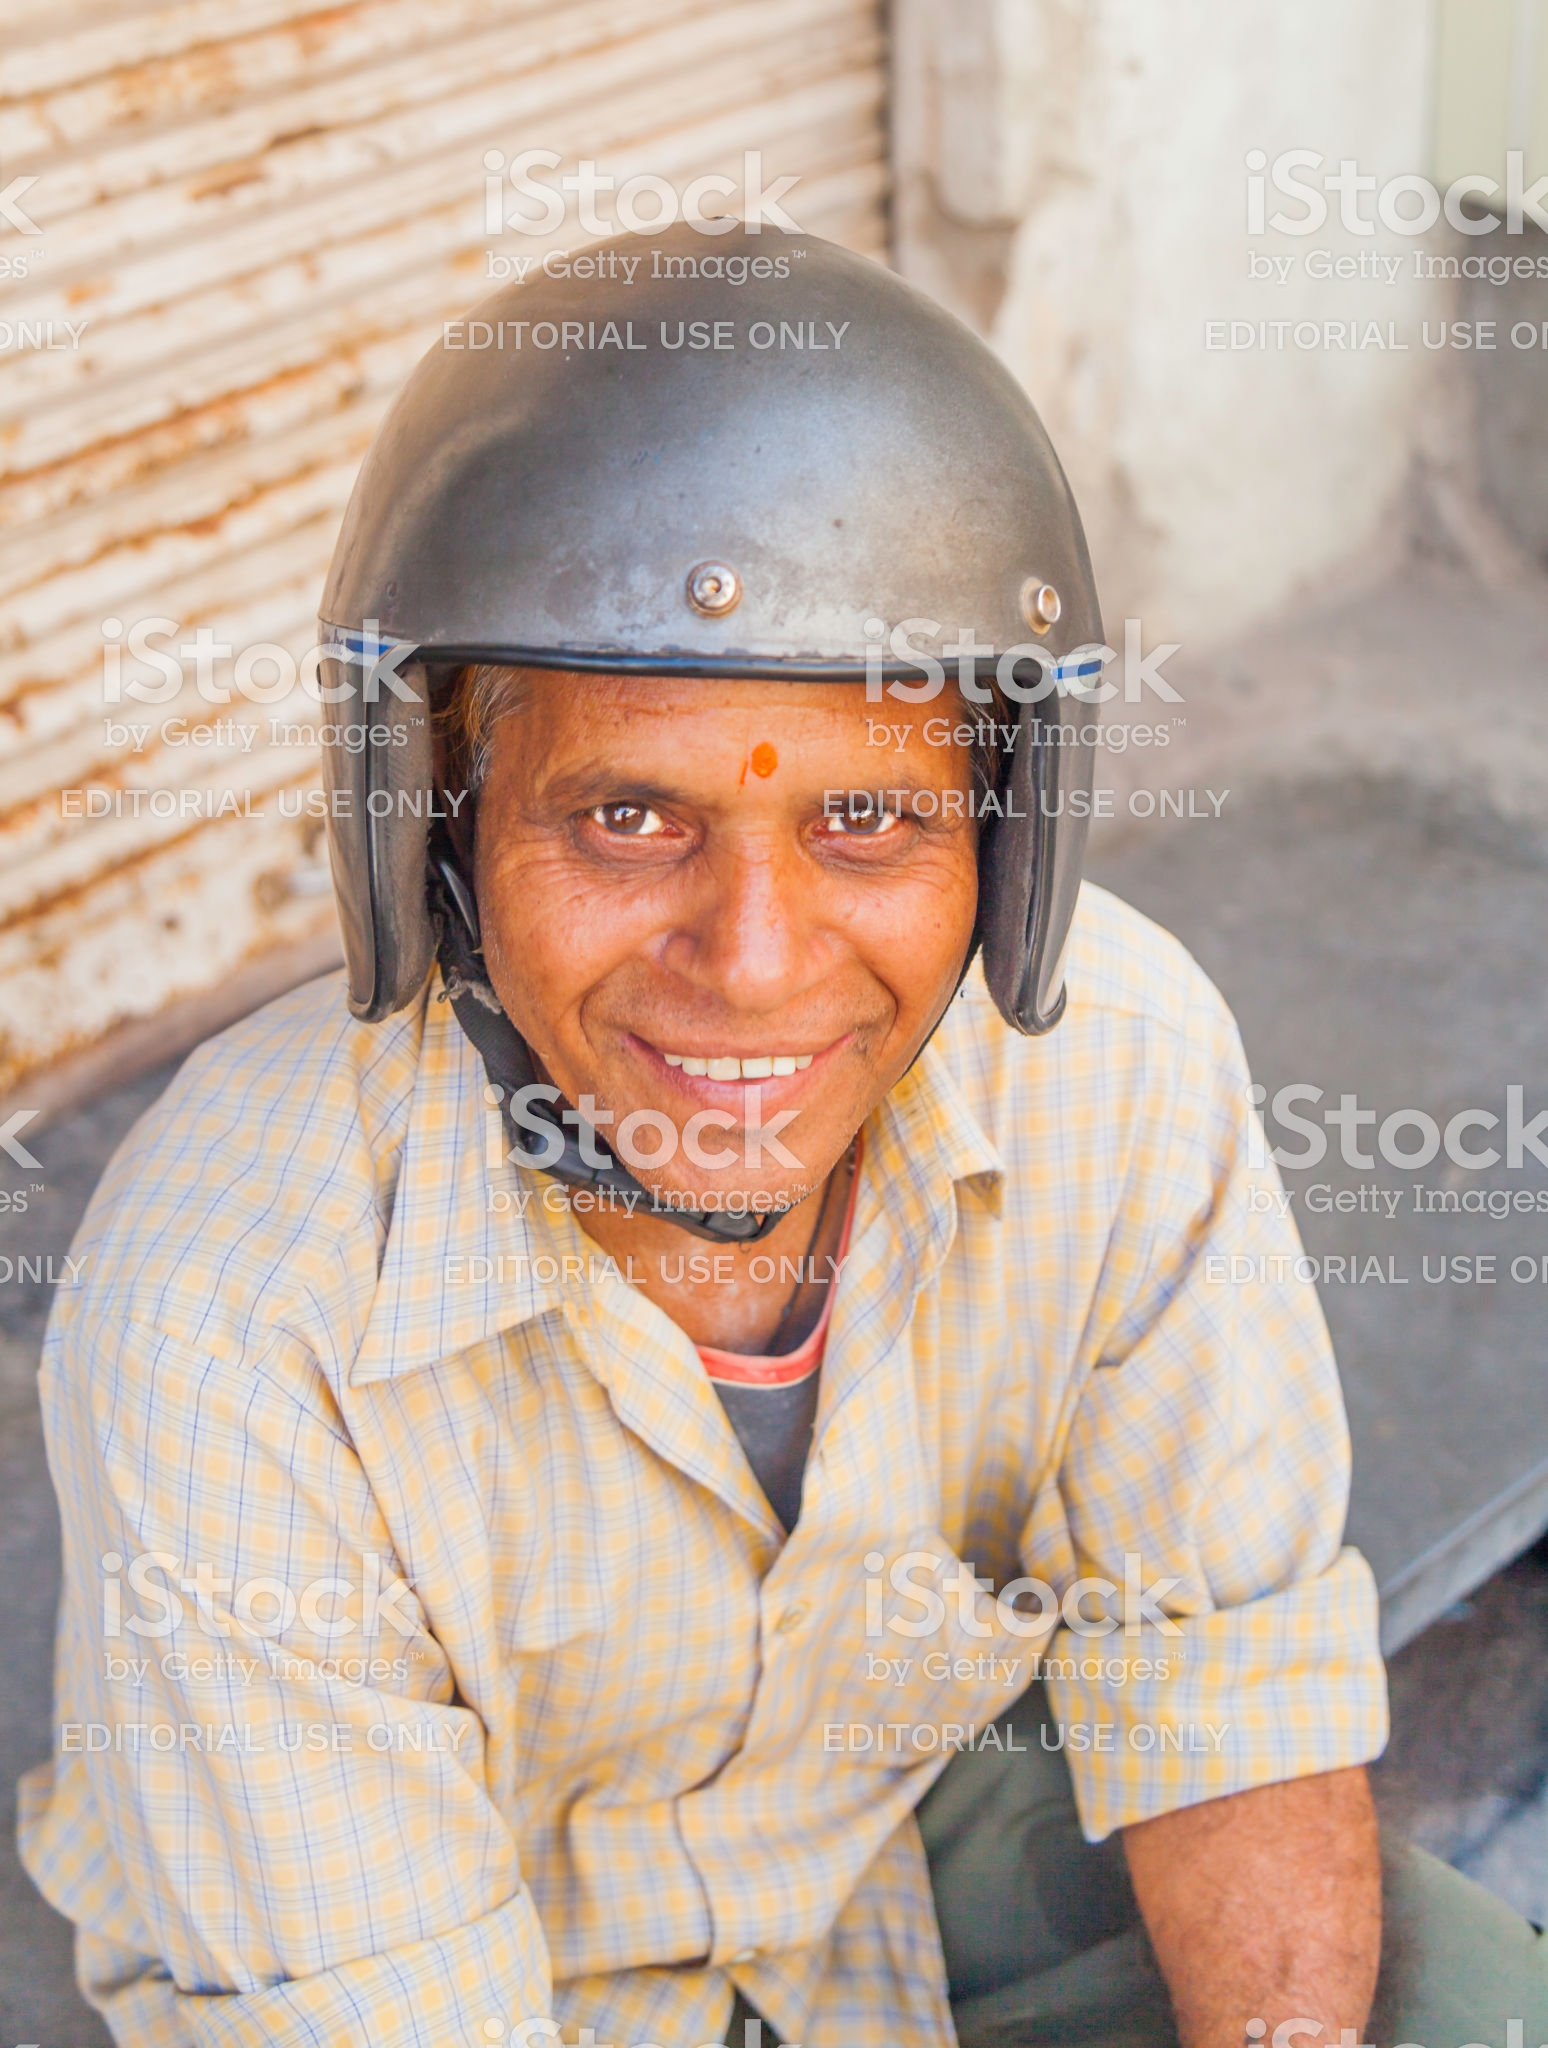helmet: (270, 237, 1185, 988)
